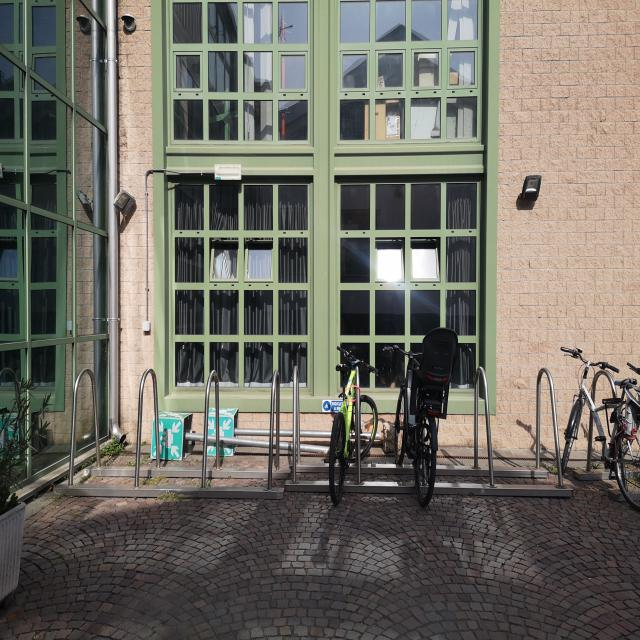Bicycle: (554, 316, 640, 530), (389, 320, 458, 518), (320, 337, 381, 498)
